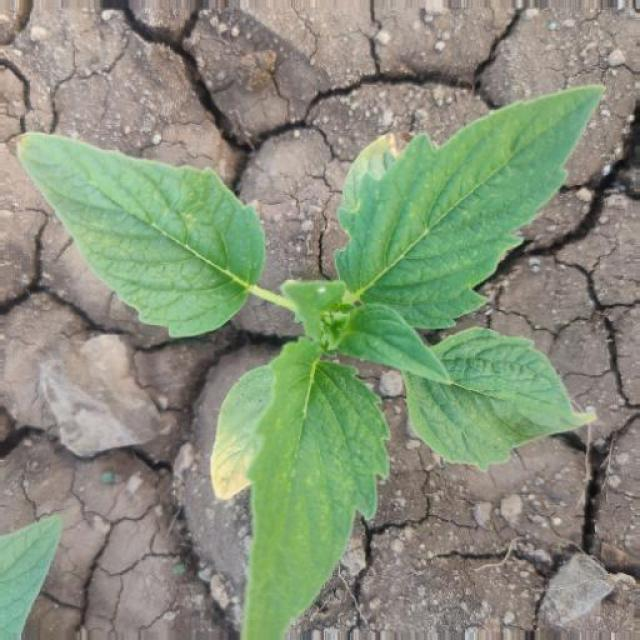crop: (10, 69, 612, 635)
